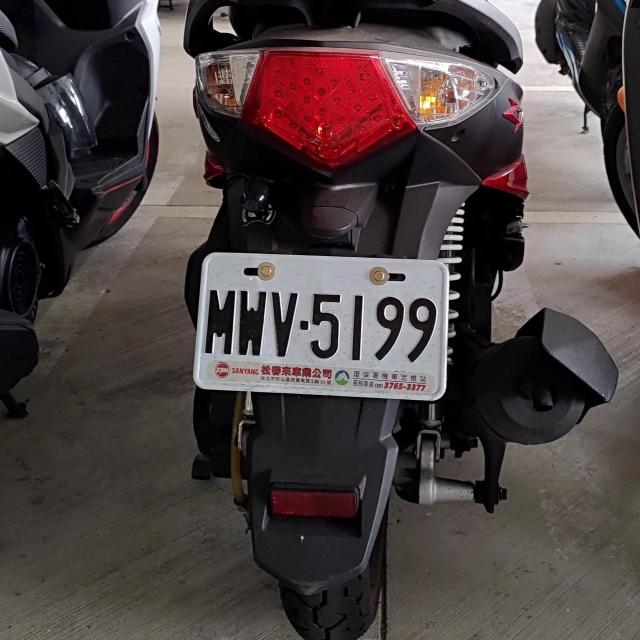W: (191, 251, 451, 399)
